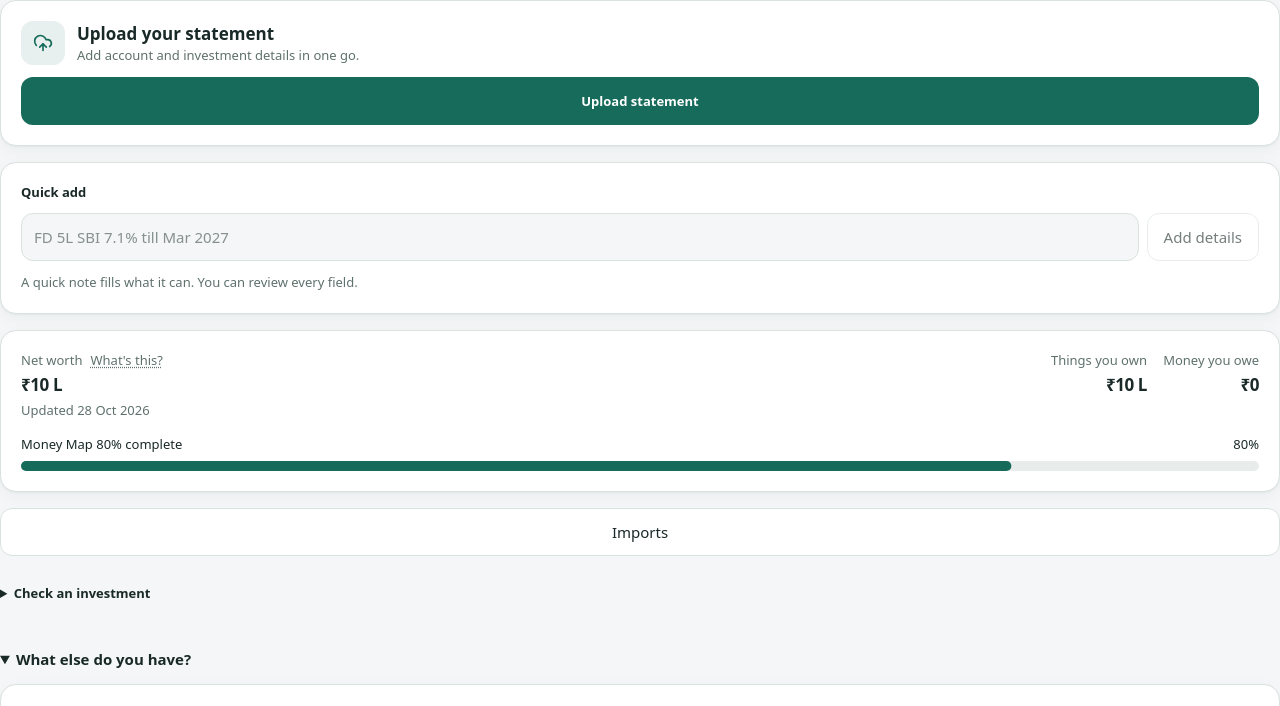
Test: Money Map › uses quick-add to prefill the PPF 6.5 lakh card and marks missing fields
The width and height of the screenshot is (1280, 706).
Type "PPF 6.5 lakh" into the field labelled "Quick add" at (580, 237), box [21,213,1139,261]
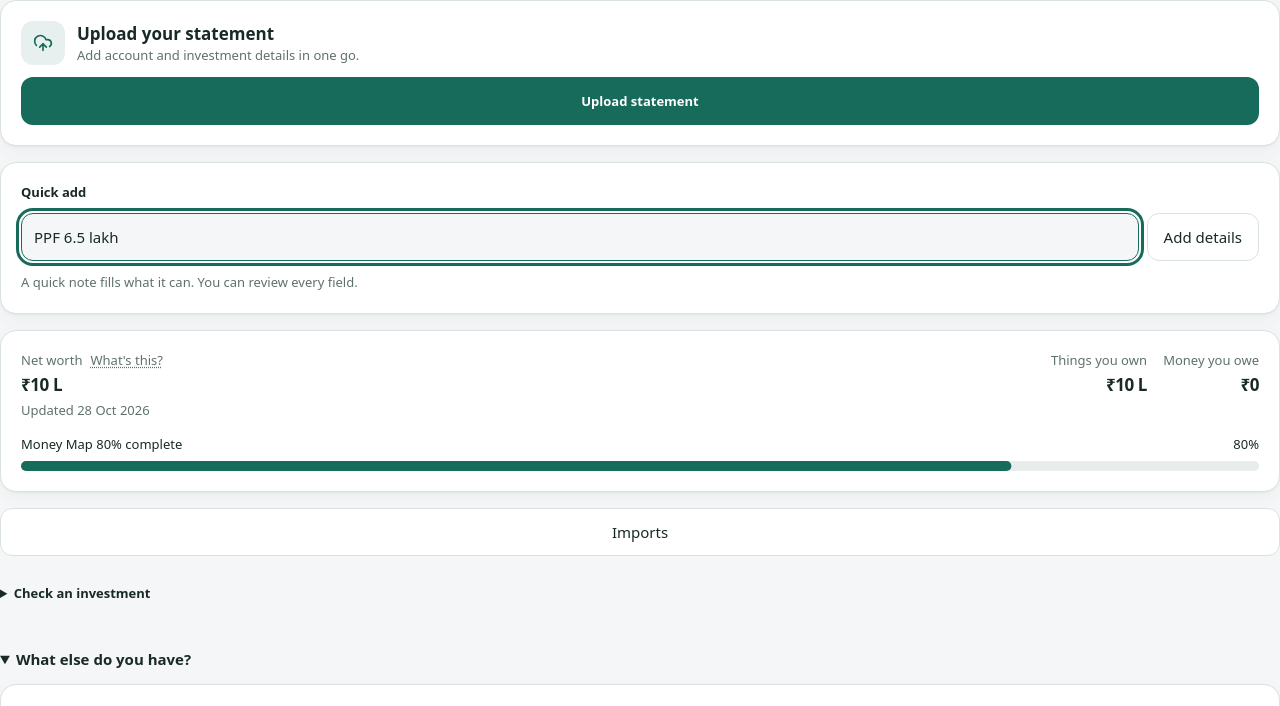
Click the button "Add details" at (1203, 237), box [1147,213,1259,261]
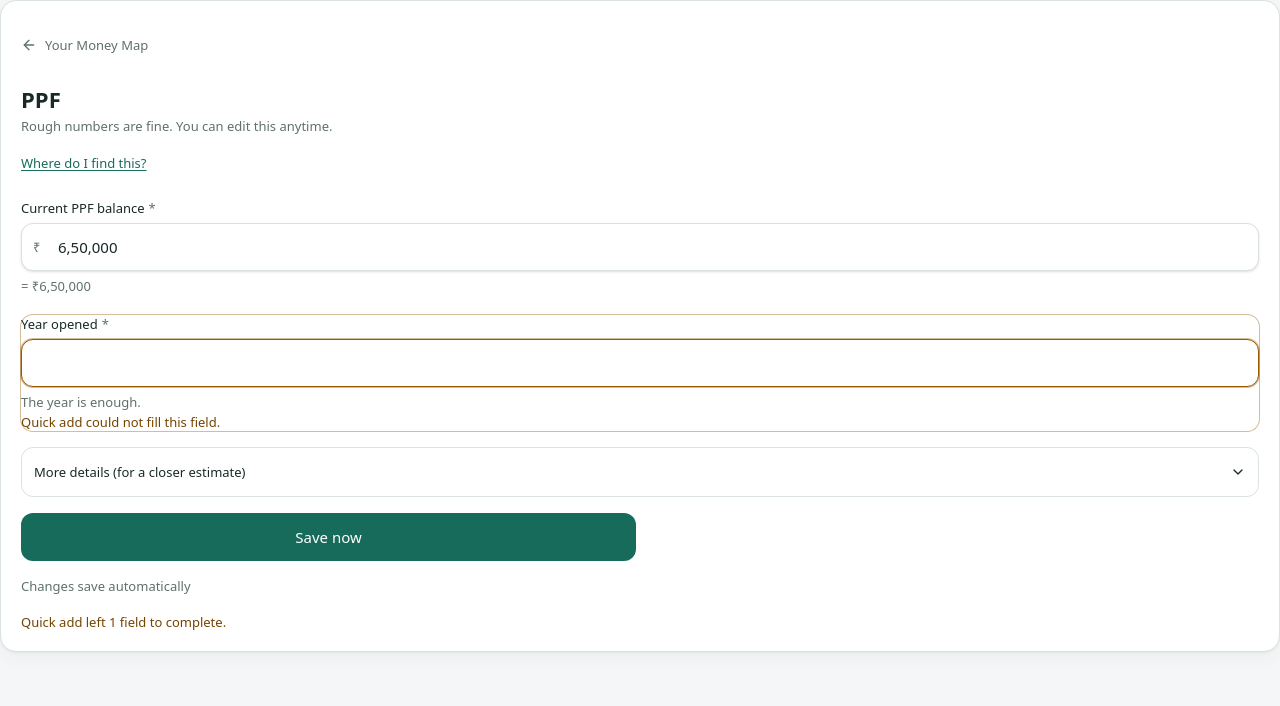
Check: the field labelled "Current PPF balance*" holds "6,50,000", box [21,223,1259,271]
Check: the text "Quick add left 1 field to complete." is shown, box [21,613,226,631]
